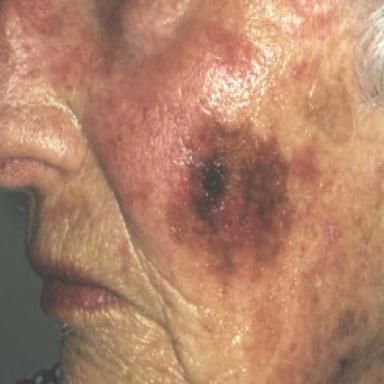Melanoma: (167, 107, 319, 273)
